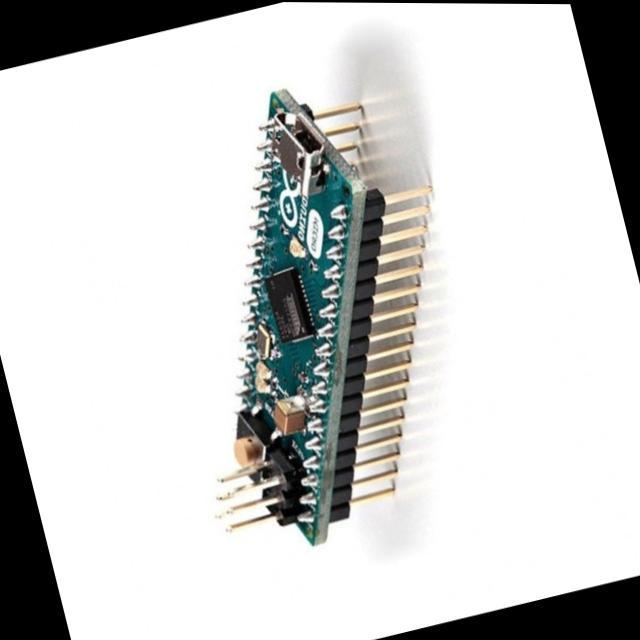Arduino-Micro: (222, 91, 385, 545)
